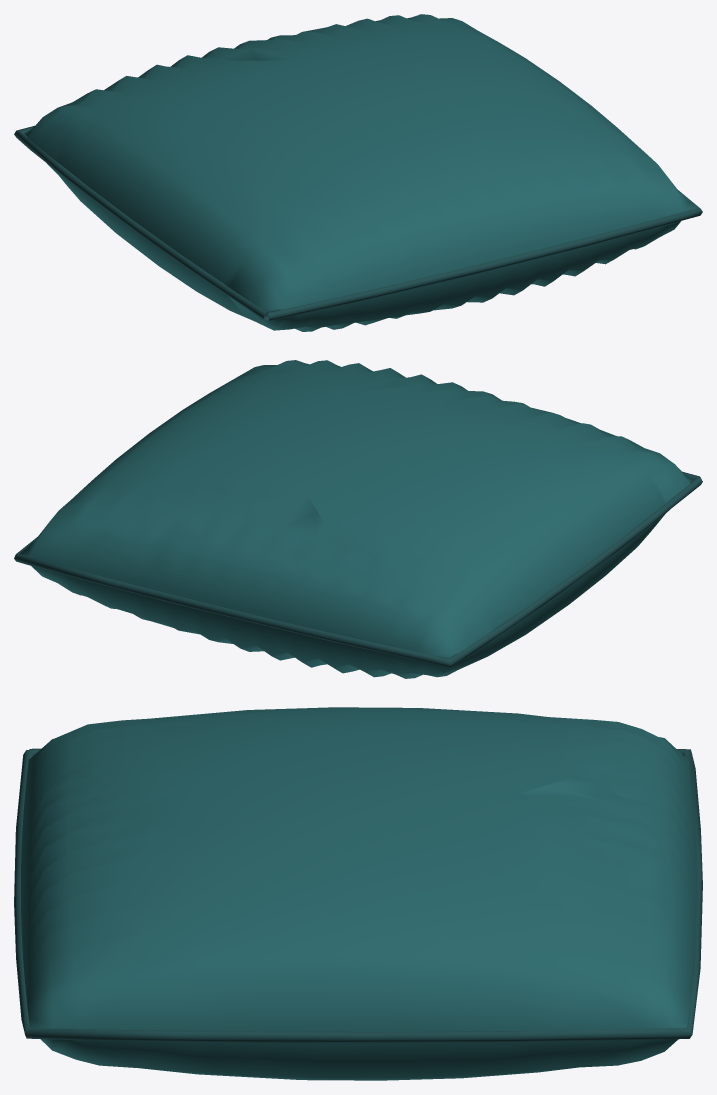
The model's file is ThrowPillowLOD1.fbx.
3 renders of one model, top to bottom at view 1: azimuth 30°, elevation 25°; view 2: azimuth 150°, elevation 25°; view 3: azimuth 270°, elevation 25°, orthographic. The views are drawn at different scales.
Visible parts, largest first — view 1: ThrowPillow.001; view 2: ThrowPillow.001; view 3: ThrowPillow.001.
Boxes of the visible parts, x1,y1,x2,y2 form: ThrowPillow.001: (14,14,702,331); ThrowPillow.001: (14,360,702,678); ThrowPillow.001: (14,707,702,1080).
Size of the model in its own units: 51.39 by 16.99 by 51.39.
